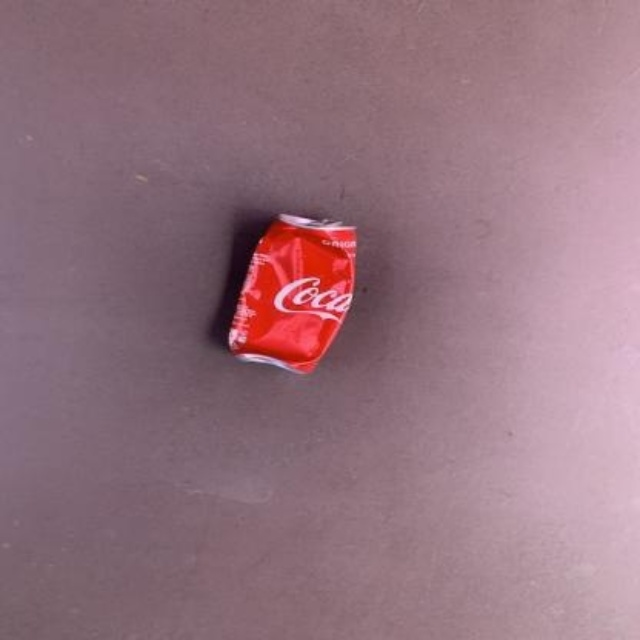trash: (228, 214, 355, 372)
